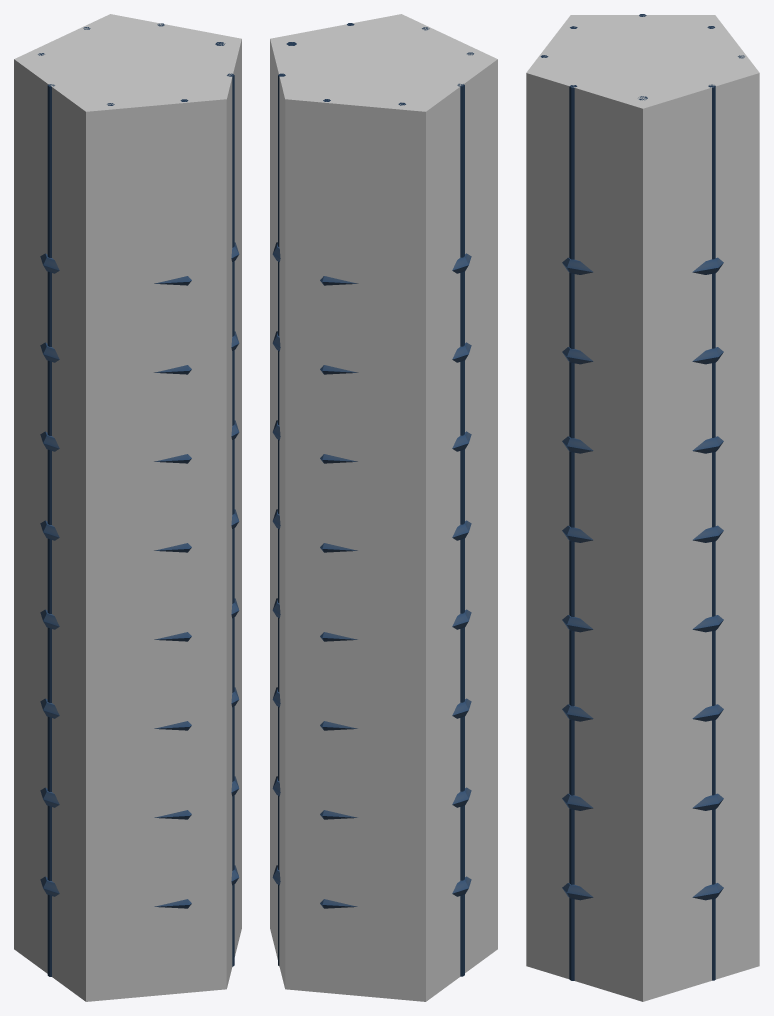
Rendered from SM_Satellite_04.fbx.
3 renders of one model, left to right at view 1: azimuth 30°, elevation 25°; view 2: azimuth 150°, elevation 25°; view 3: azimuth 270°, elevation 25°, orthographic.
Parts seen in each view (by area): view 1: SM_Satellite_04_ConvexHulls, SM_Satellite_04; view 2: SM_Satellite_04_ConvexHulls, SM_Satellite_04; view 3: SM_Satellite_04_ConvexHulls, SM_Satellite_04.
Boxes of the visible parts, x1,y1,x2,y2 form: SM_Satellite_04_ConvexHulls: [14, 14, 241, 1001]; SM_Satellite_04: [38, 23, 239, 976]; SM_Satellite_04_ConvexHulls: [270, 14, 497, 1001]; SM_Satellite_04: [272, 23, 473, 976]; SM_Satellite_04_ConvexHulls: [526, 15, 759, 1001]; SM_Satellite_04: [540, 14, 744, 980].
Size of the model in its own units: 222 by 225 by 950.
